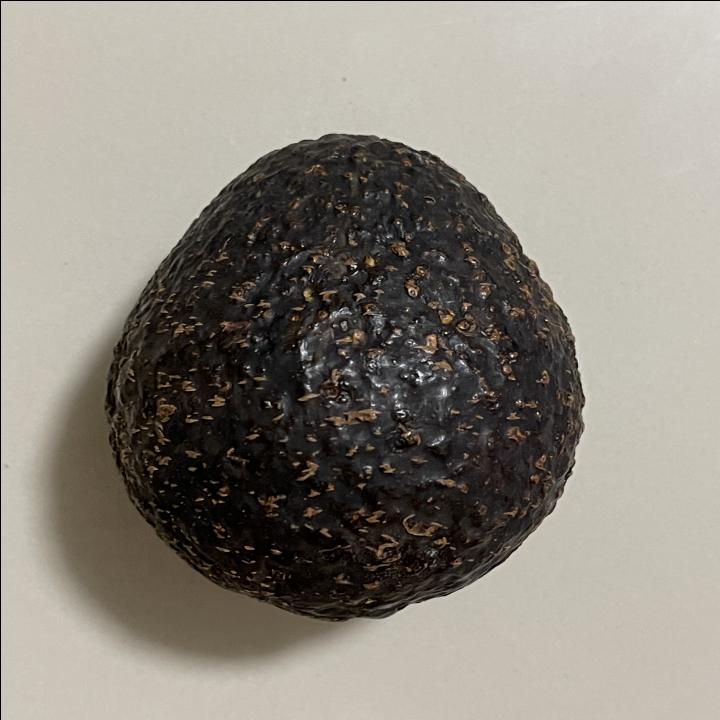Level3: (95, 120, 599, 628)
